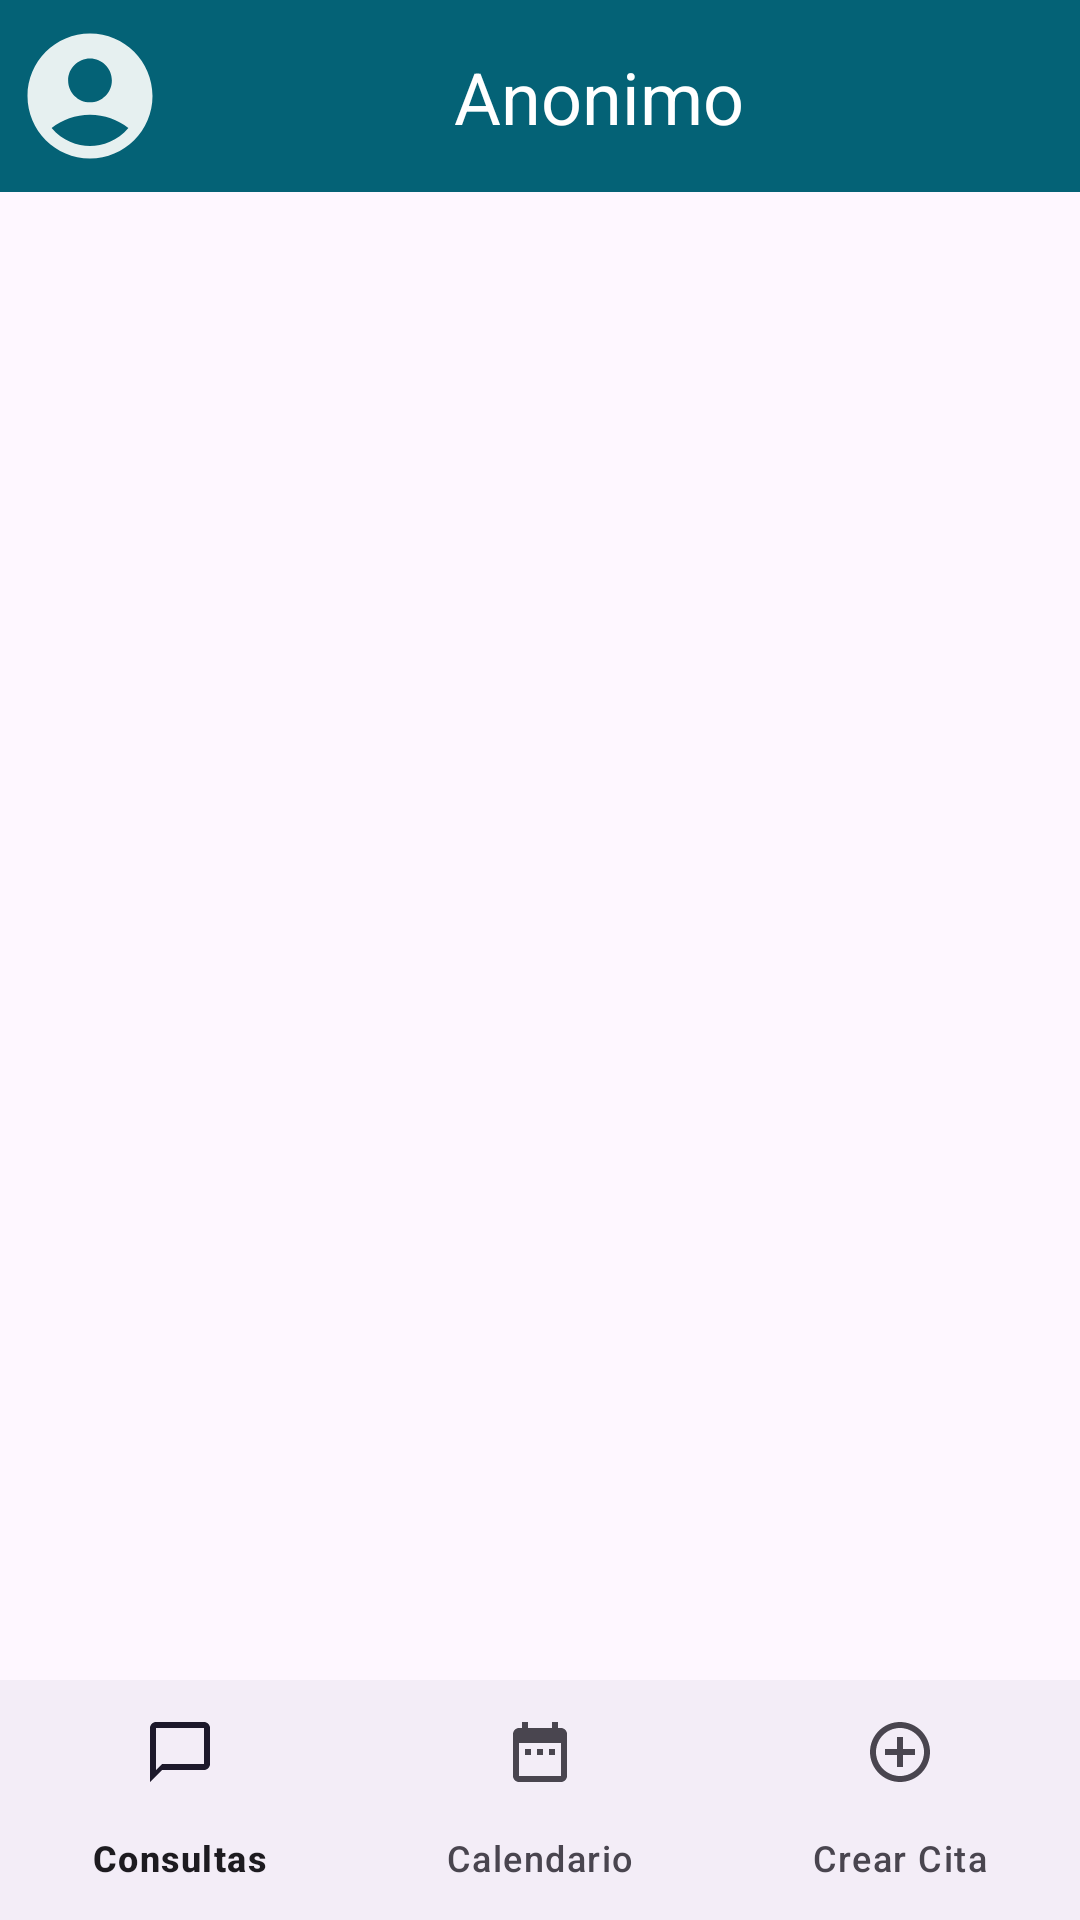

Named icons in this screenshot (1080px x 1920px) and their centers, (x=x, y=y):
account: (x=90, y=96)
